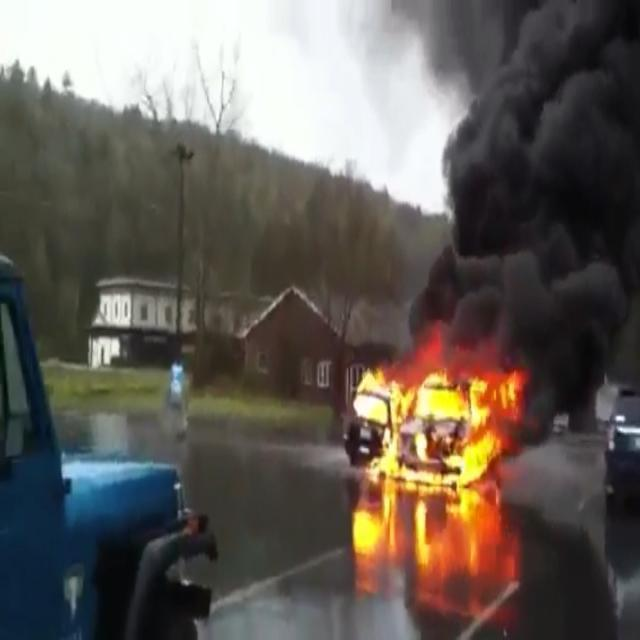fire: (402, 326, 519, 487), (342, 349, 402, 482)
